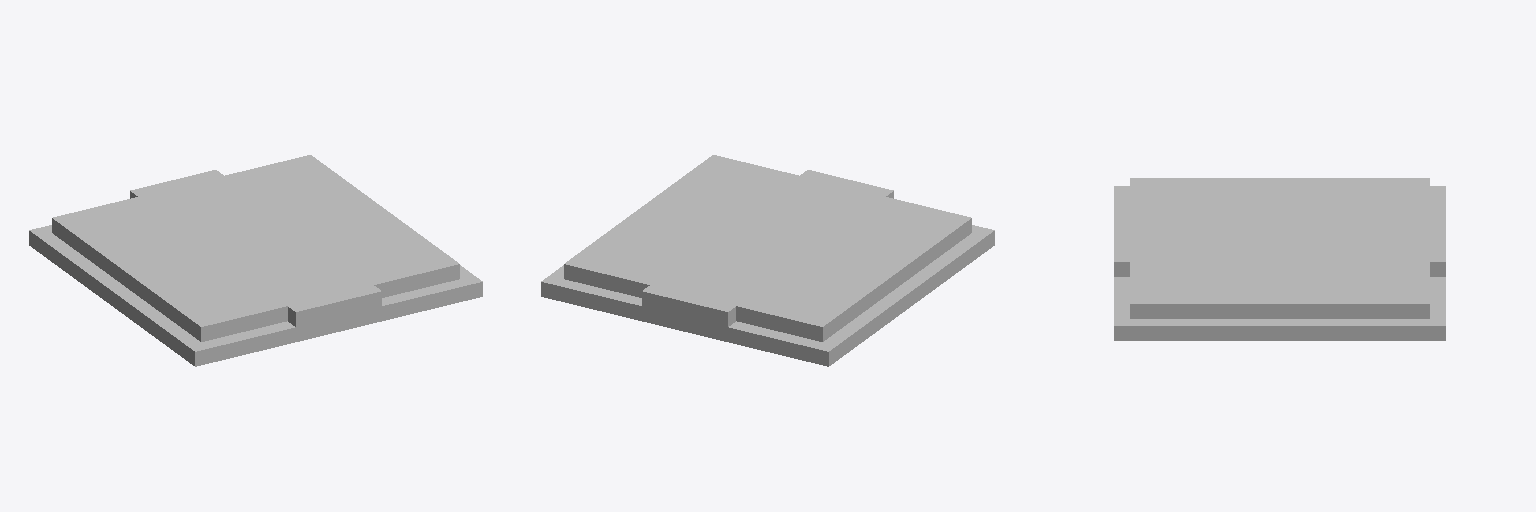
Rendered from straight.obj.
3 views of the same model, side by side, from view 1: azimuth 30°, elevation 25°; view 2: azimuth 150°, elevation 25°; view 3: azimuth 270°, elevation 25° (orthographic).
Size of the model in its own units: 20 by 2 by 20.